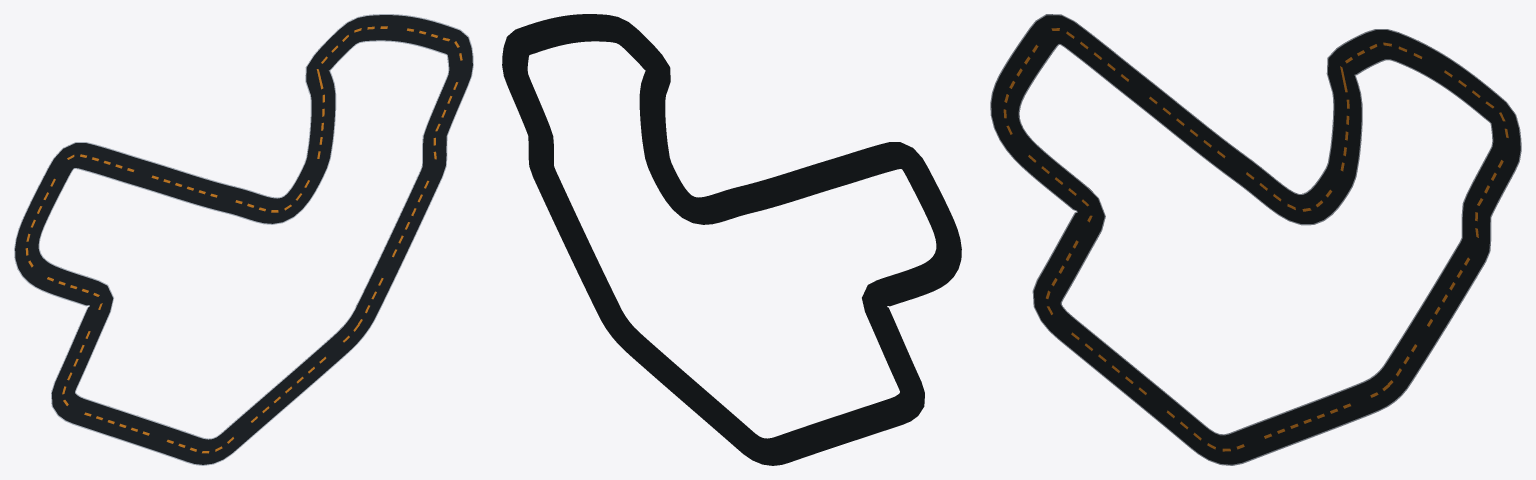
The model's file is track.obj.
3 views of the same model, side by side, from view 1: azimuth 30°, elevation 25°; view 2: azimuth 150°, elevation 25°; view 3: azimuth 330°, elevation 25° (orthographic). The views are drawn at different scales.
Bounding box in the file's own units: 19.2 × 16.46 × 0.002.
